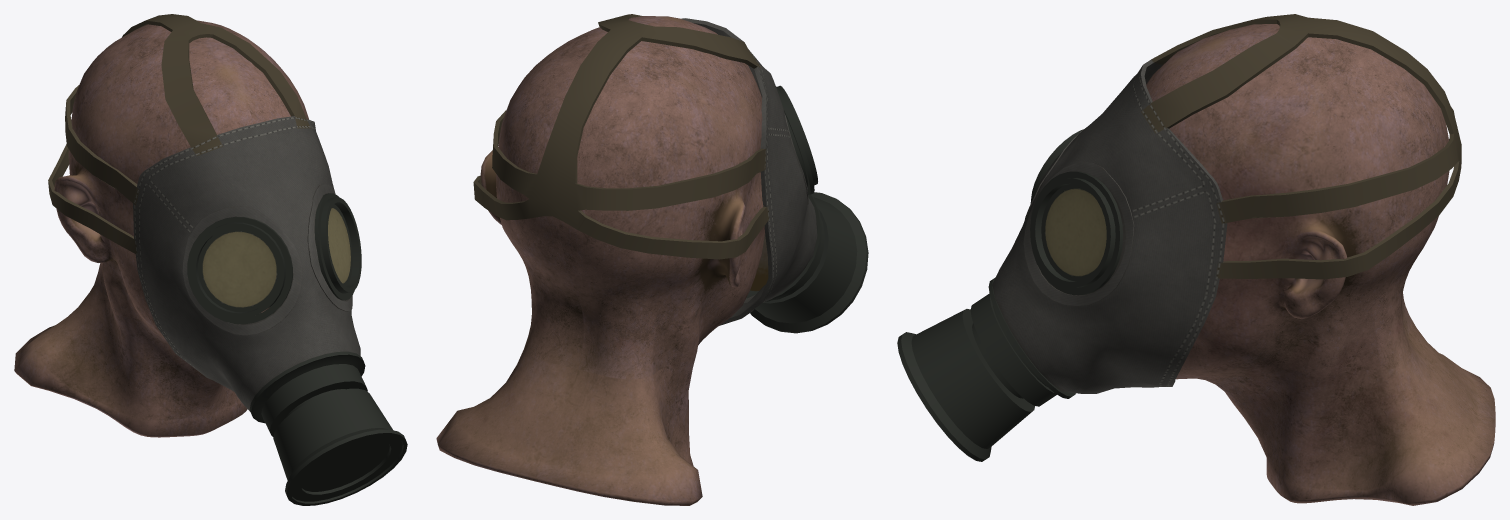
File: Mask.fbx
The picture shows the model from 3 angles, left to right: view 1: azimuth 30°, elevation 25°; view 2: azimuth 150°, elevation 25°; view 3: azimuth 270°, elevation 25°; orthographic projection. The views are drawn at different scales.
Visible parts, largest first — view 1: gas mask, head, gas mask.001; view 2: head, gas mask; view 3: head, gas mask, gas mask.001.
Part boxes in pixels (x1,y1,x2,y2): gas mask: (48, 14, 407, 505); head: (14, 20, 308, 437); gas mask.001: (202, 208, 350, 307); head: (436, 16, 764, 505); gas mask: (473, 14, 868, 333); head: (1146, 24, 1495, 505); gas mask: (897, 14, 1461, 461); gas mask.001: (1045, 188, 1106, 276).
Size of the model in its own units: 33.92 by 54.12 by 64.43.
